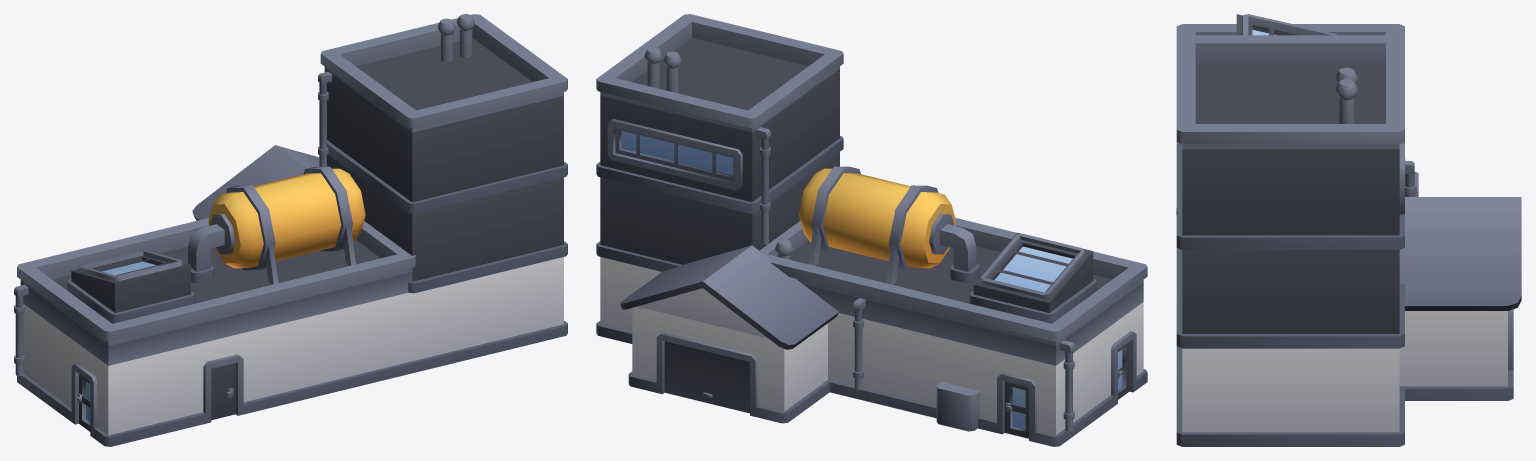
File: kenney-city-industrial-building-r.glb
3 views of the same model, side by side, from view 1: azimuth 30°, elevation 25°; view 2: azimuth 150°, elevation 25°; view 3: azimuth 270°, elevation 25° (orthographic). The views are drawn at different scales.
Parts seen in each view (by area): view 1: building-r; view 2: building-r; view 3: building-r.
Part boxes in pixels (x1,y1,x2,y2): building-r: (14,14,567,446); building-r: (596,14,1147,446); building-r: (1176,14,1521,446).
Bounding box in the file's own units: 2.48 × 1.39 × 1.27.
1 material, 1 textured.
